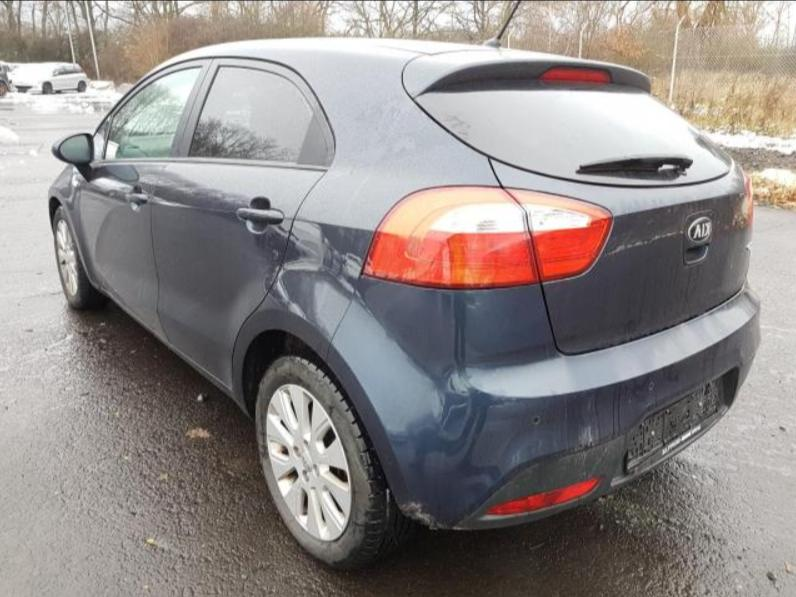Missing part: (629, 381, 715, 467)
Scratch: (575, 423, 608, 478), (396, 498, 445, 530)
